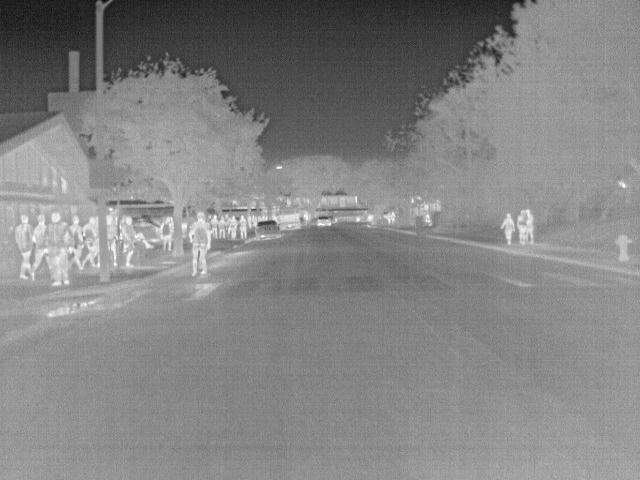car: (252, 219, 283, 240), (315, 214, 334, 228)
person: (46, 210, 72, 284), (120, 215, 155, 269), (188, 212, 213, 278), (29, 213, 49, 280), (15, 213, 35, 278), (66, 214, 86, 269), (105, 213, 119, 265), (83, 215, 99, 256), (160, 214, 175, 251), (500, 212, 516, 245), (516, 209, 530, 244), (523, 207, 536, 244), (237, 213, 251, 244), (217, 214, 229, 241), (227, 214, 239, 240), (208, 213, 220, 239), (422, 213, 434, 226)
